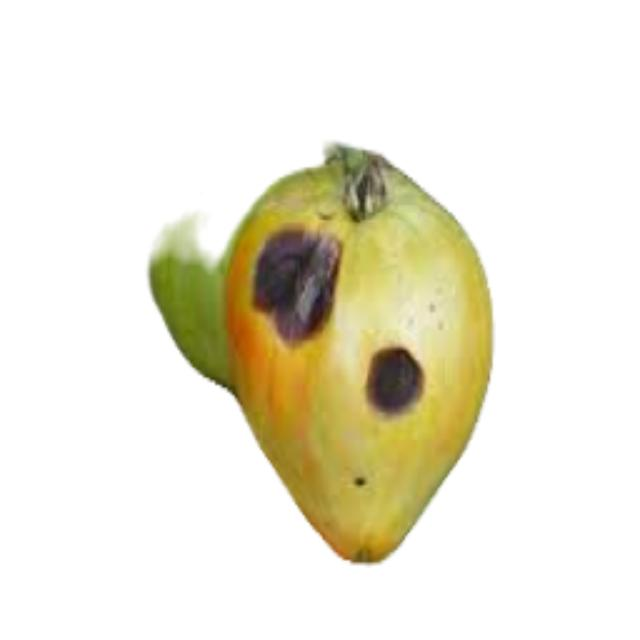defect: (220, 138, 495, 566)
